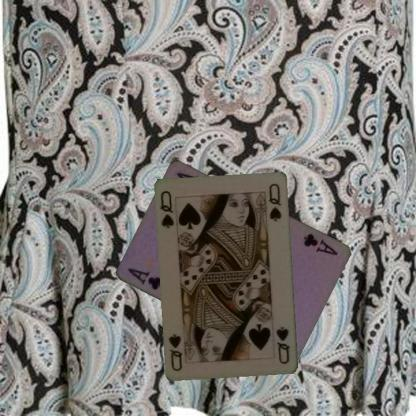Ac: (300, 229, 338, 257), (124, 265, 163, 292)
Qs: (158, 188, 176, 229), (274, 324, 291, 366)
